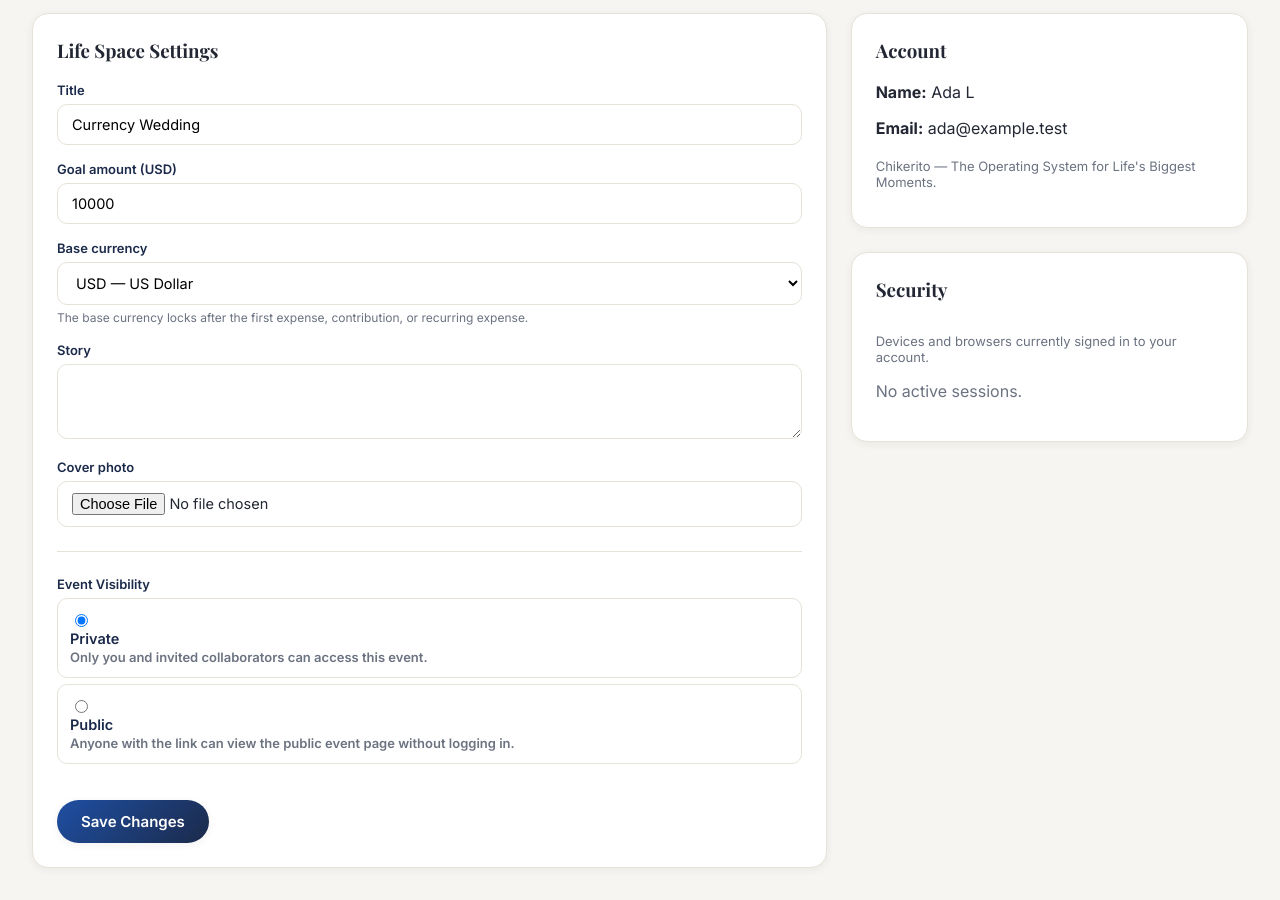
base currency settings › surfaces a rejected base-currency change
The width and height of the screenshot is (1280, 900).
(page scrolled)
Click the button "Save Changes". click: (133, 821)
box: [57,800,209,843]
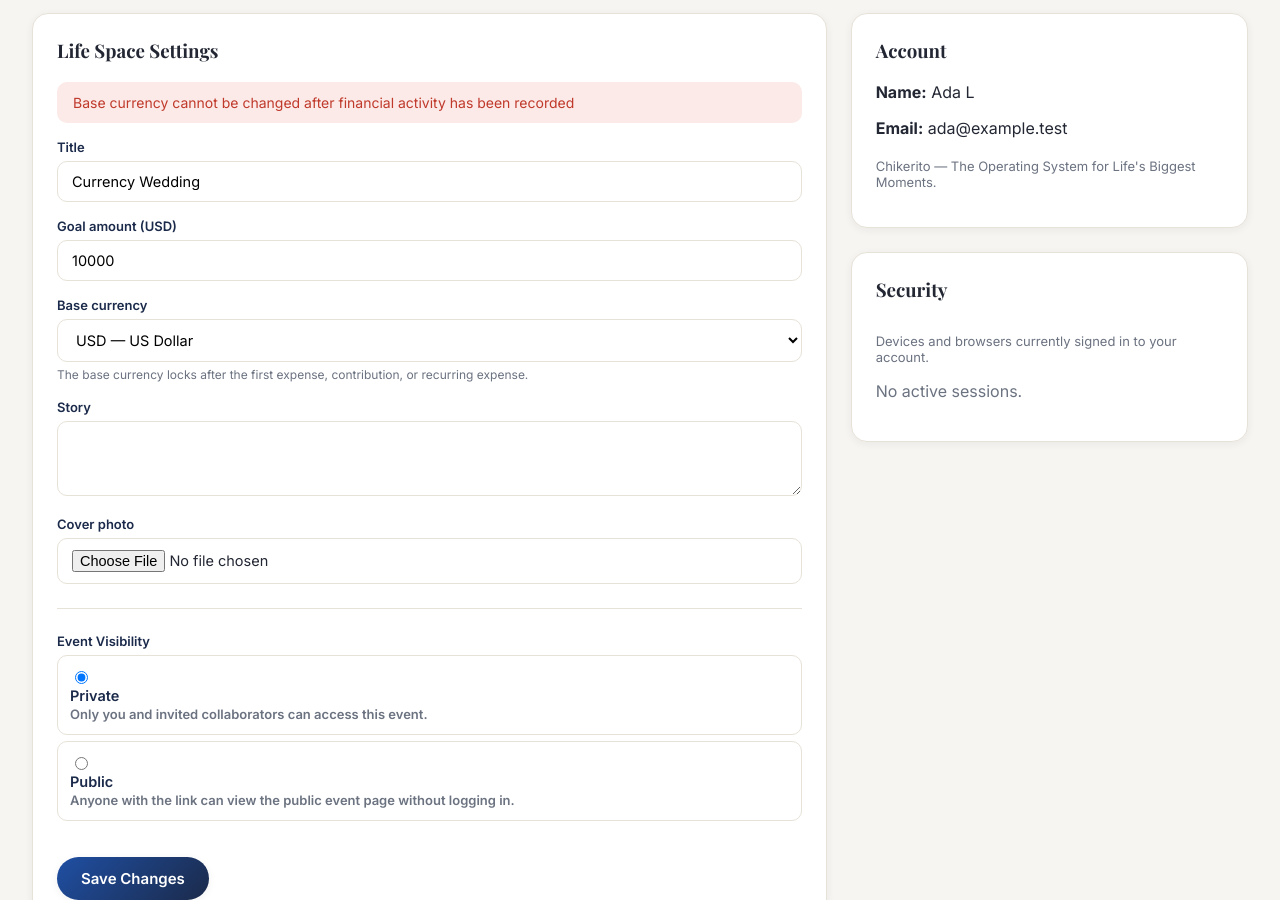
Now the text "cannot be changed after financial activity" is shown, box [73,94,574,111]
